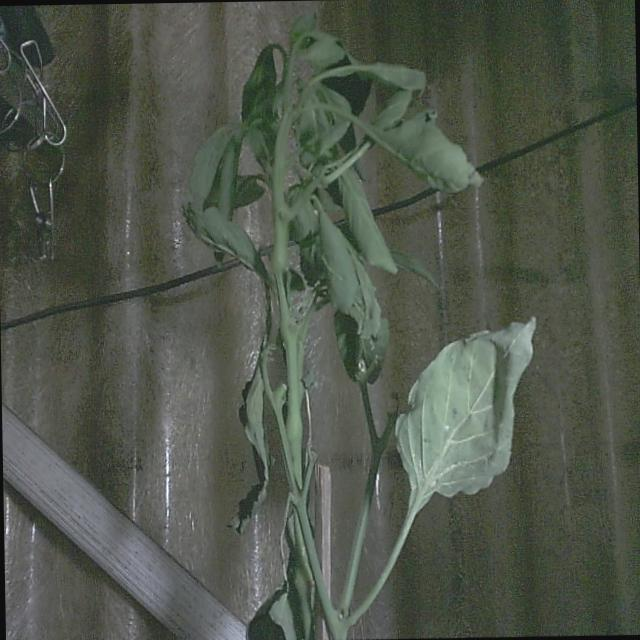Leaf: (391, 316, 540, 500), (376, 118, 483, 196), (224, 368, 272, 532), (177, 201, 270, 282), (338, 166, 397, 274)
